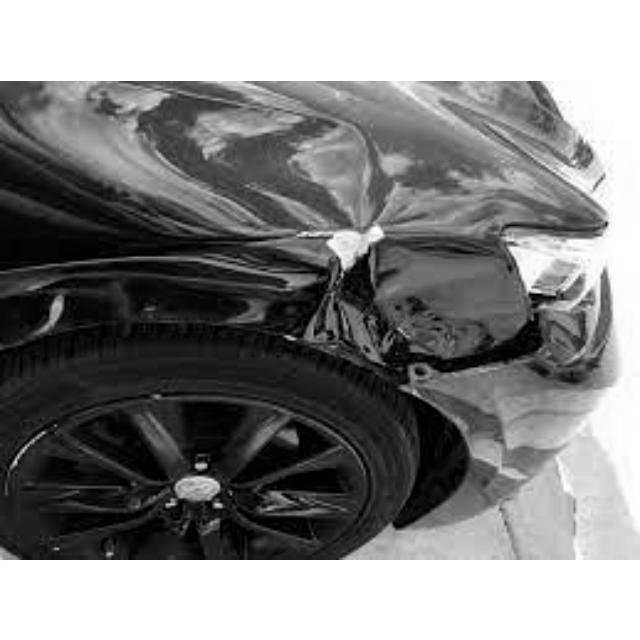fender-dent: (1, 83, 512, 453)
